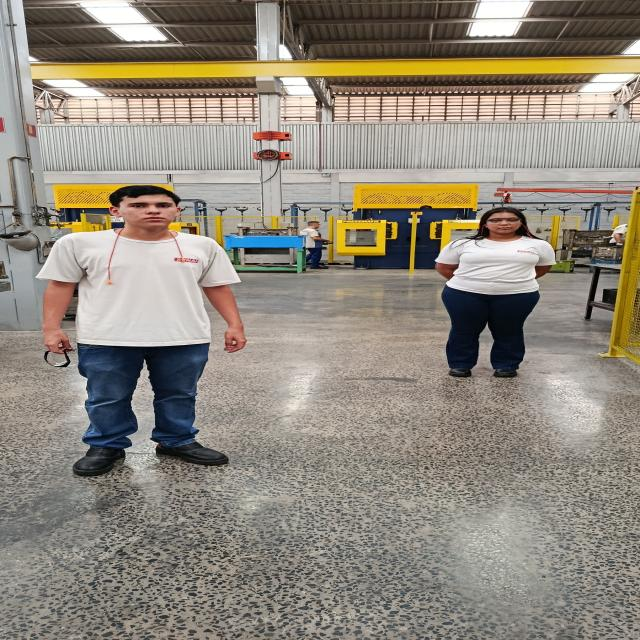oculos-epi: (486, 217, 524, 224)
sem_oculos: (114, 201, 181, 212)
